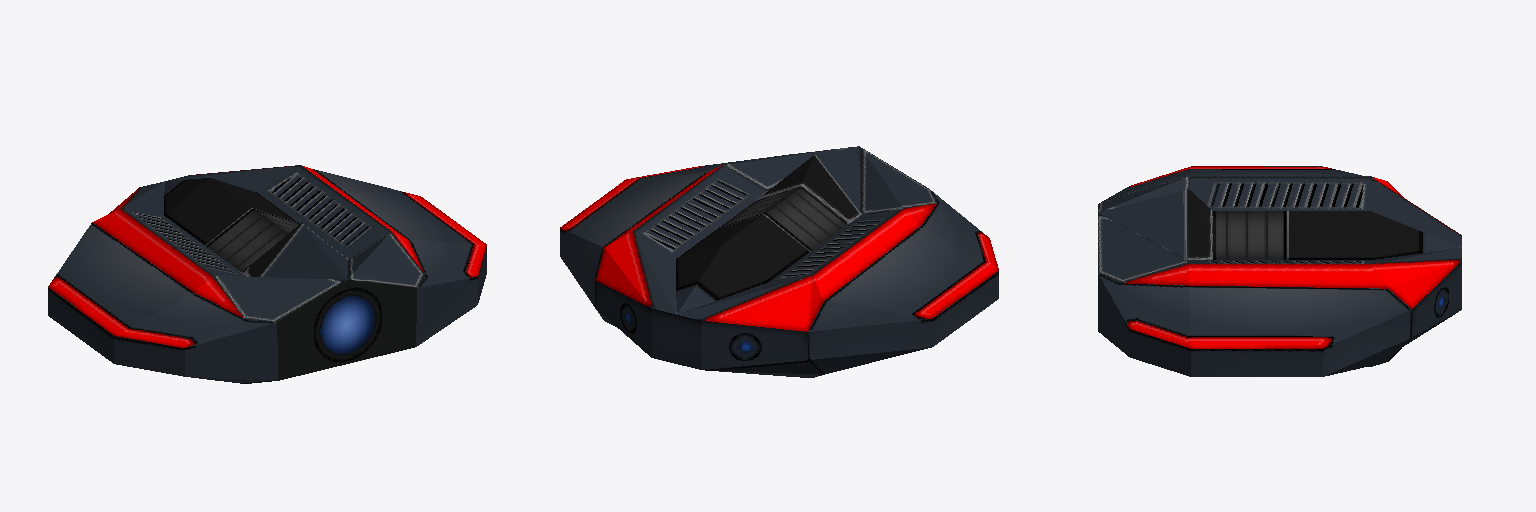
3 views of the same model, side by side, from view 1: azimuth 30°, elevation 25°; view 2: azimuth 150°, elevation 25°; view 3: azimuth 270°, elevation 25° (orthographic).
Parts seen in each view (by area): view 1: body; view 2: body; view 3: body.
Boxes of the visible parts, box(x1,y1,x2,y2) form: body: box(48, 165, 486, 383); body: box(560, 146, 998, 377); body: box(1098, 166, 1461, 376).
Bounding box in the file's own units: 1.71 × 0.5887 × 1.45.
1 materials, 1 textured.